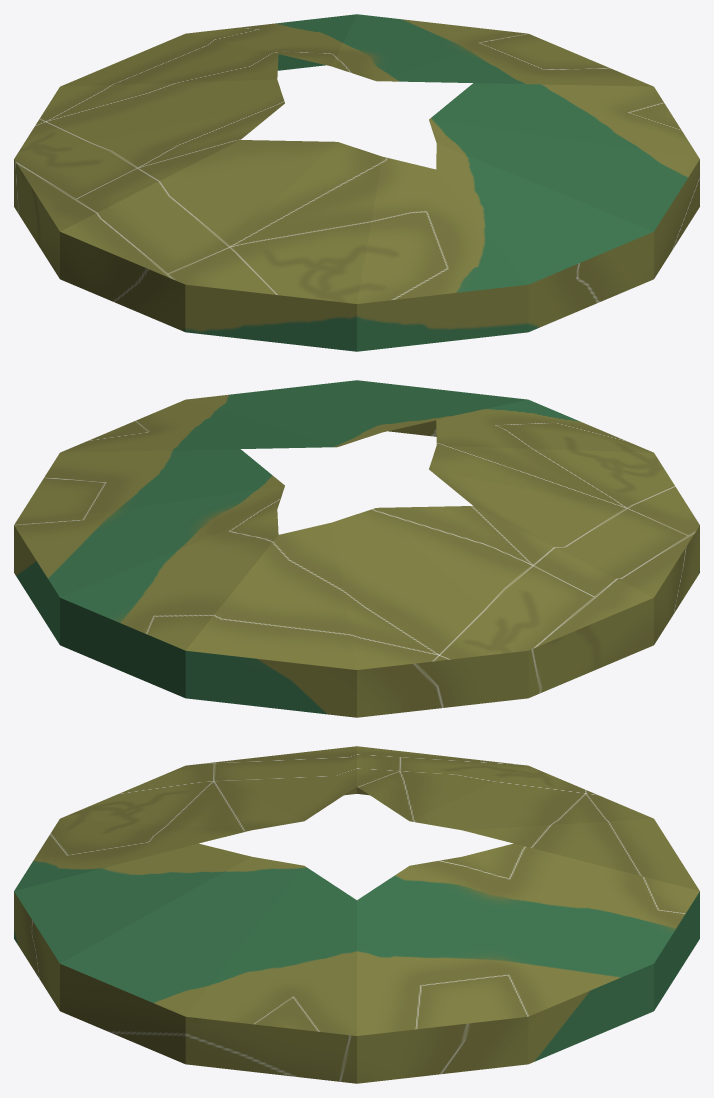
Rendered from LaunchingSpike_Plate.fbx.
3 renders of one model, top to bottom at view 1: azimuth 30°, elevation 25°; view 2: azimuth 150°, elevation 25°; view 3: azimuth 270°, elevation 25°, orthographic.
Parts seen in each view (by area): view 1: pCylinder5; view 2: pCylinder5; view 3: pCylinder5.
Boxes of the visible parts, x1,y1,x2,y2 form: pCylinder5: [14, 14, 699, 351]; pCylinder5: [14, 380, 699, 717]; pCylinder5: [14, 746, 699, 1083].
Bounding box in the file's own units: 13.05 × 2 × 13.05.
